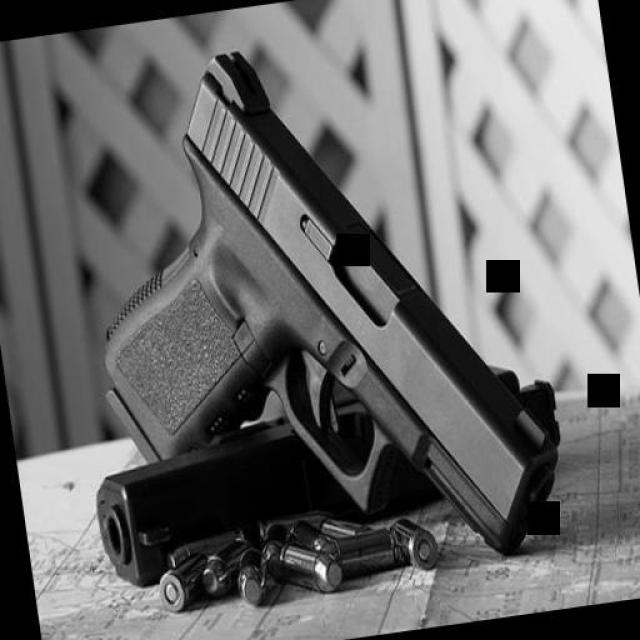gun: (59, 12, 570, 608), (80, 355, 574, 589)
